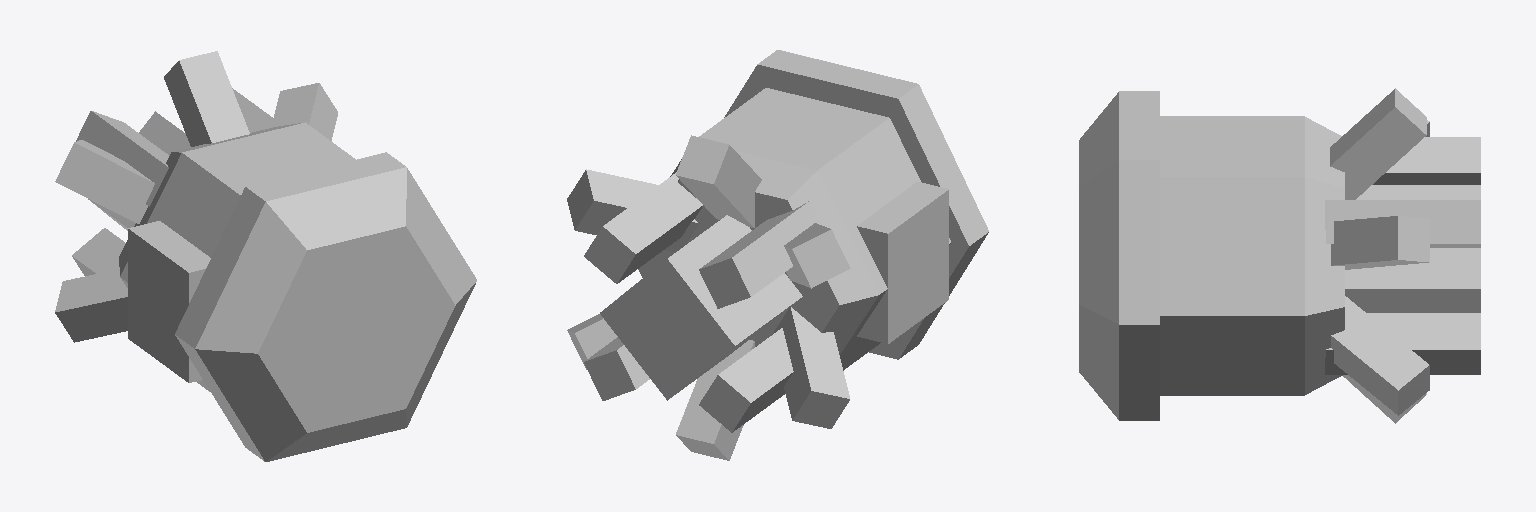
Rendered from alembic.obj.
The picture shows the model from 3 angles: view 1: azimuth 30°, elevation 25°; view 2: azimuth 150°, elevation 25°; view 3: azimuth 270°, elevation 25°; orthographic projection.
Parts seen in each view (by area): view 1: Pot, Legs, Panel, TubeSmall, TubeMain; view 2: Pot, Legs, TubeSmall, TubeMain, Panel; view 3: Pot, Legs, TubeSmall, TubeMain.
Boxes of the visible parts, x1=… form: Pot: x1=119, y1=122, x2=476, y2=461; Legs: x1=55, y1=51, x2=337, y2=376; Panel: x1=128, y1=221, x2=210, y2=382; TubeSmall: x1=72, y1=88, x2=283, y2=275; TubeMain: x1=88, y1=111, x2=190, y2=230; Pot: x1=638, y1=50, x2=988, y2=370; Legs: x1=567, y1=135, x2=850, y2=460; TubeSmall: x1=584, y1=172, x2=820, y2=432; TubeMain: x1=600, y1=215, x2=802, y2=400; Panel: x1=857, y1=182, x2=948, y2=343; Pot: x1=1079, y1=91, x2=1344, y2=420; Legs: x1=1330, y1=88, x2=1429, y2=423; TubeSmall: x1=1325, y1=137, x2=1480, y2=374; TubeMain: x1=1345, y1=185, x2=1480, y2=312.
Bounding box in the file's own units: 0.9241 × 0.9855 × 1.14.